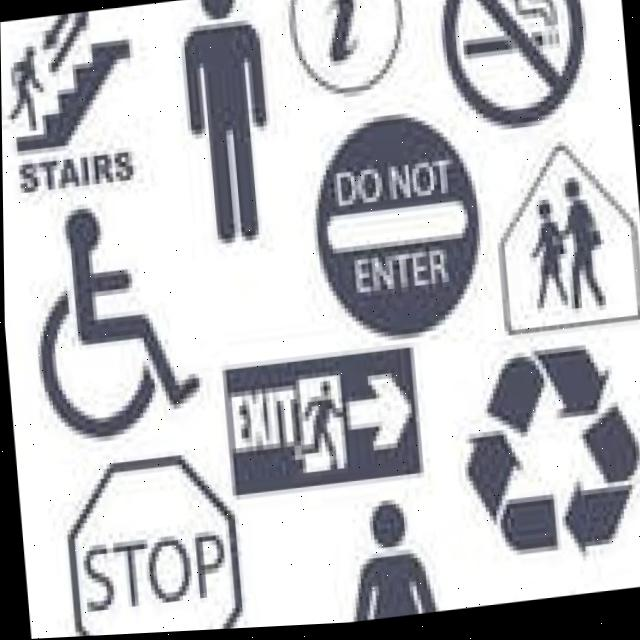symbol_of_access: (24, 191, 205, 450)
